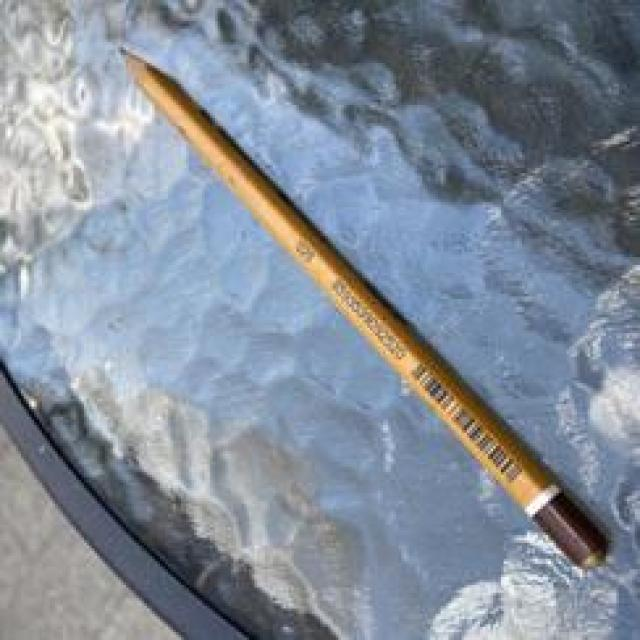pencil: (89, 22, 630, 589)
